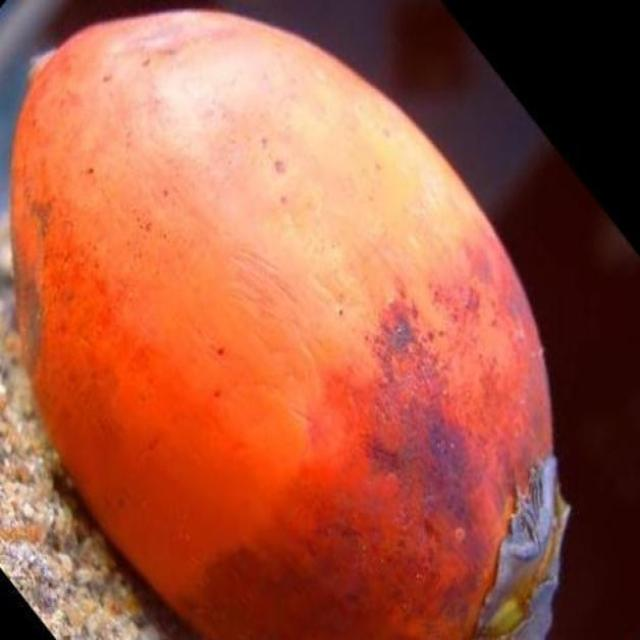good: (8, 9, 572, 639)
